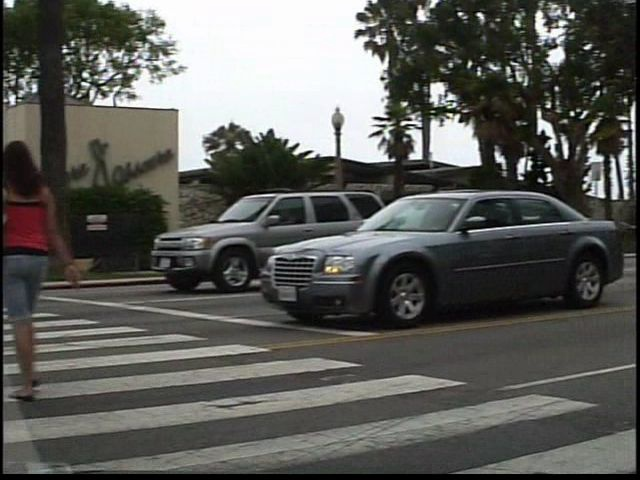person: (13, 137, 95, 405)
